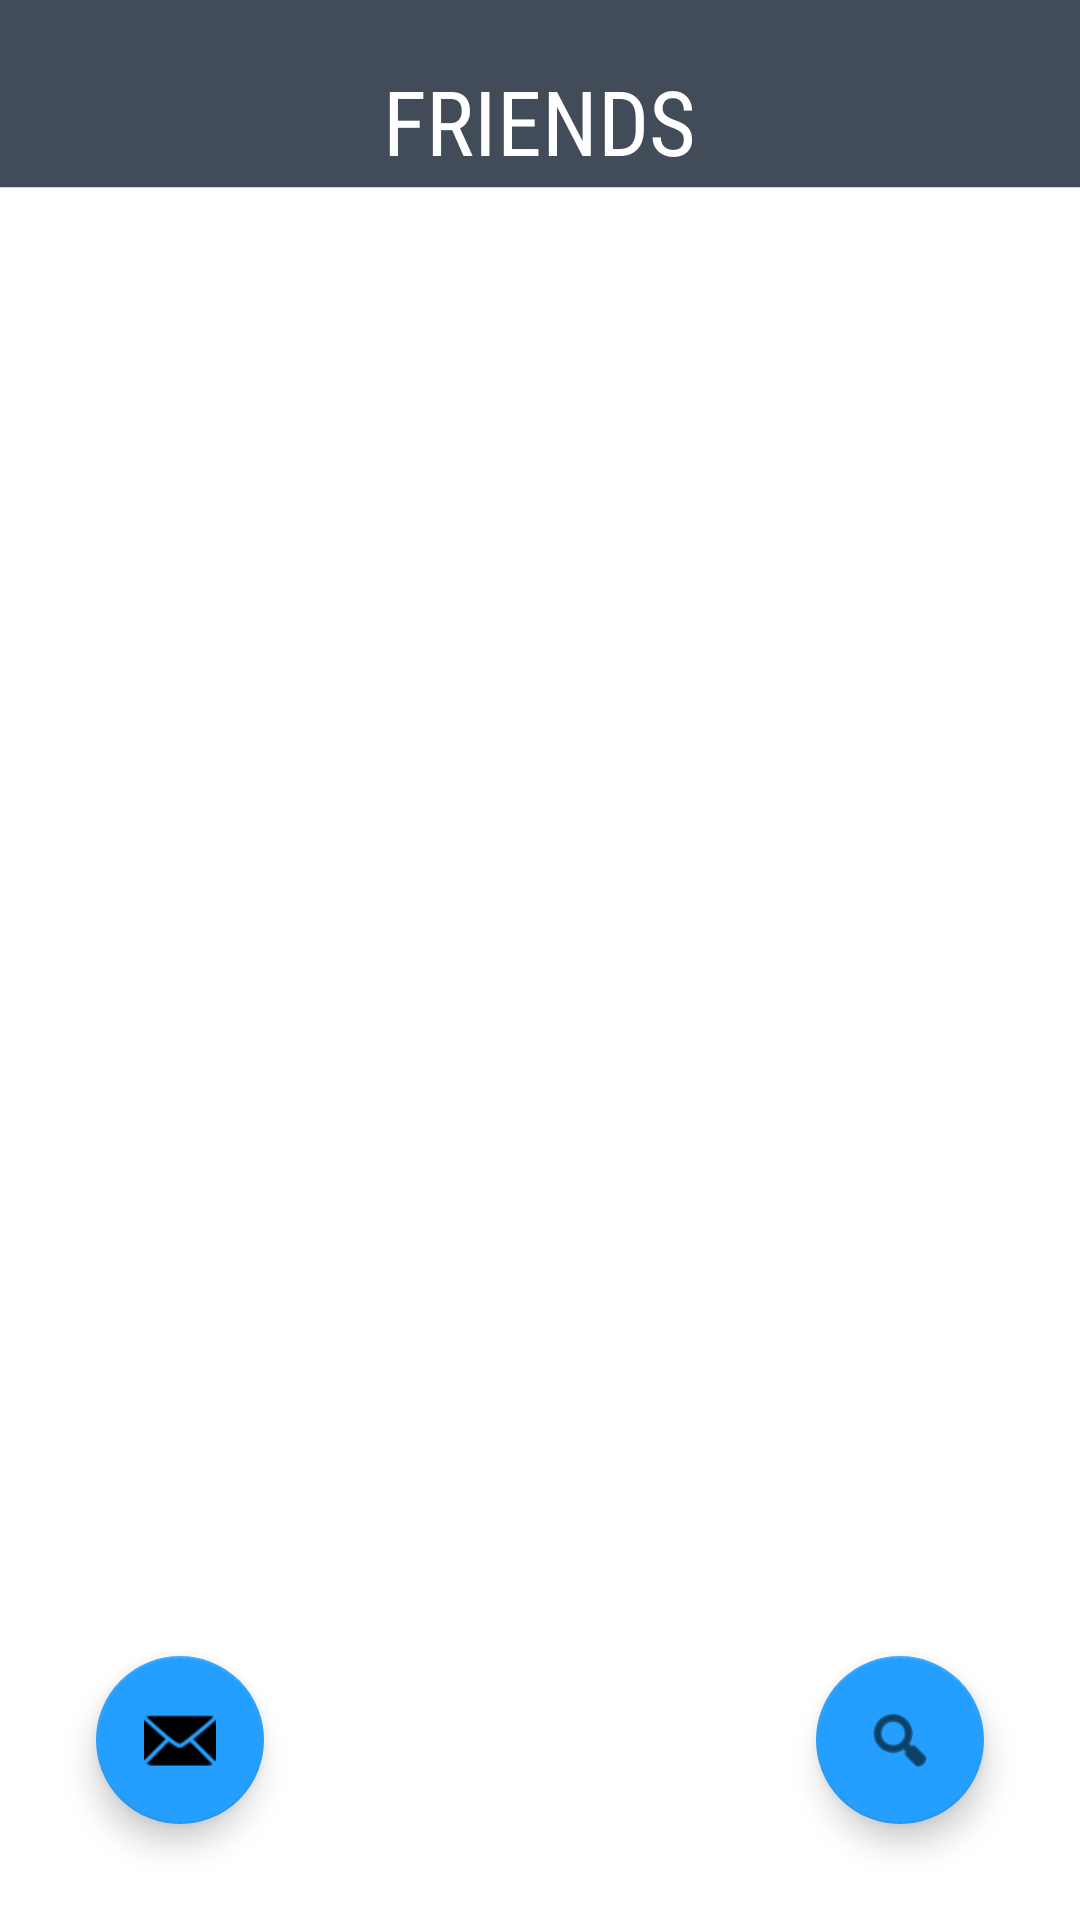

Screen size 1080 x 1920. Icon name, then its center in pixels as (x=x, y=y):
email: (x=180, y=1740)
search: (x=900, y=1740)
